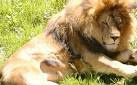lion: (3, 4, 136, 84)
